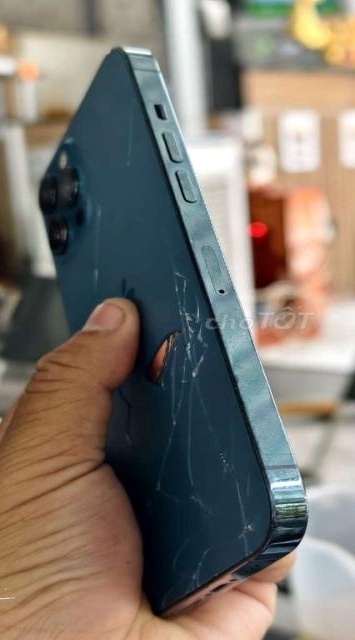physical_damage: (50, 91, 256, 593)
scratch: (260, 458, 319, 568)
